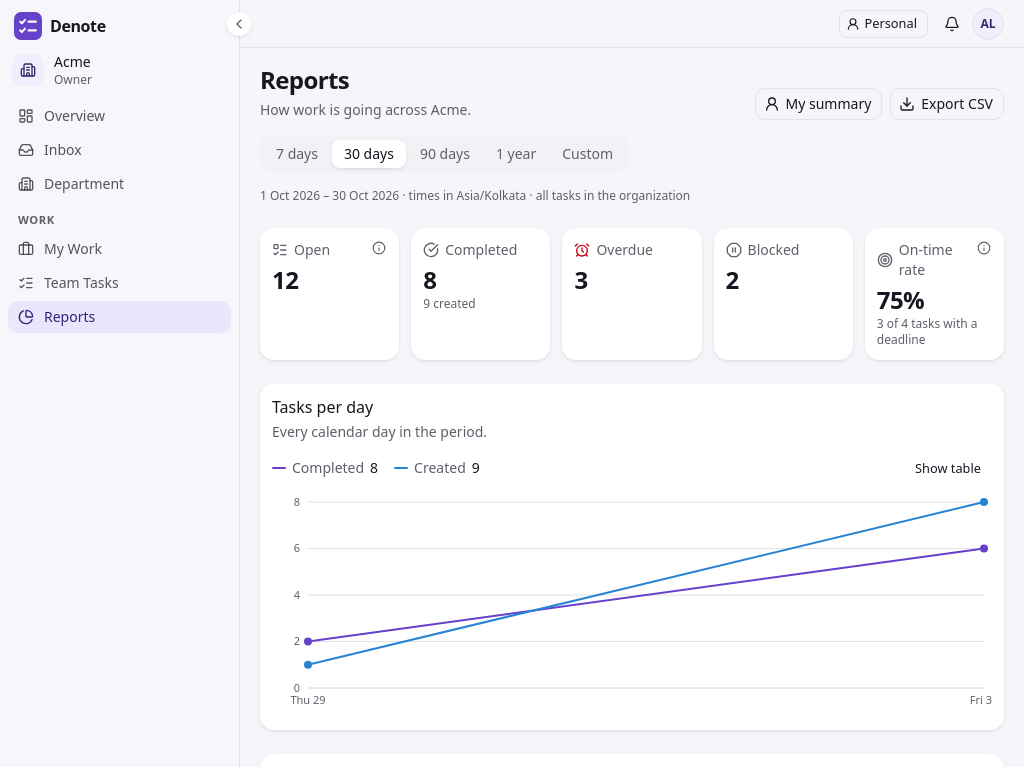
Scenario: Organization report › shows the numbers, what they cover and how they are worked out
expect the text "75%" is shown: met, box [877,283,924,316]
expect the text "3 of 4 tasks with a deadline" is shown: met, box [877,316,992,348]
Hover over the button named "How “On-time rate” is calculated": (984, 248) [970,234,998,262]
(page scrolled)
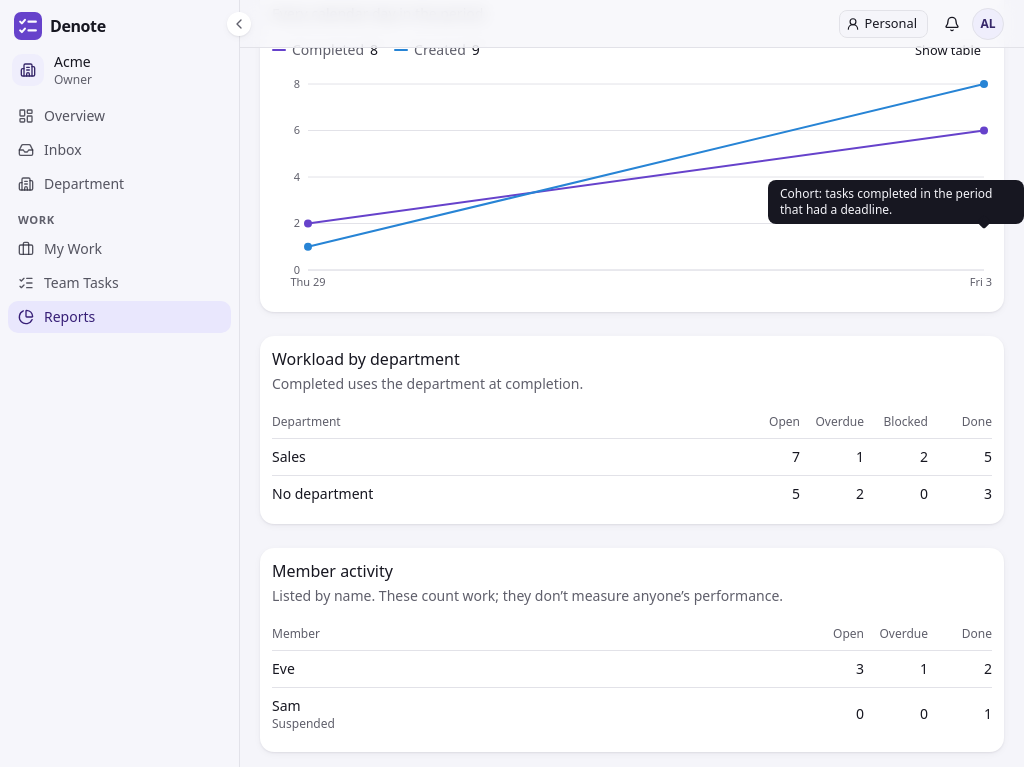
expect the text "No department" is shown: met, box [272,476,736,512]
expect the tooltip shows "Cohort: tasks completed": met, box [780,185,992,218]
